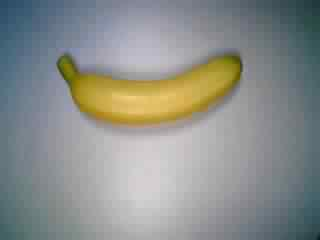banana: (52, 49, 254, 128)
